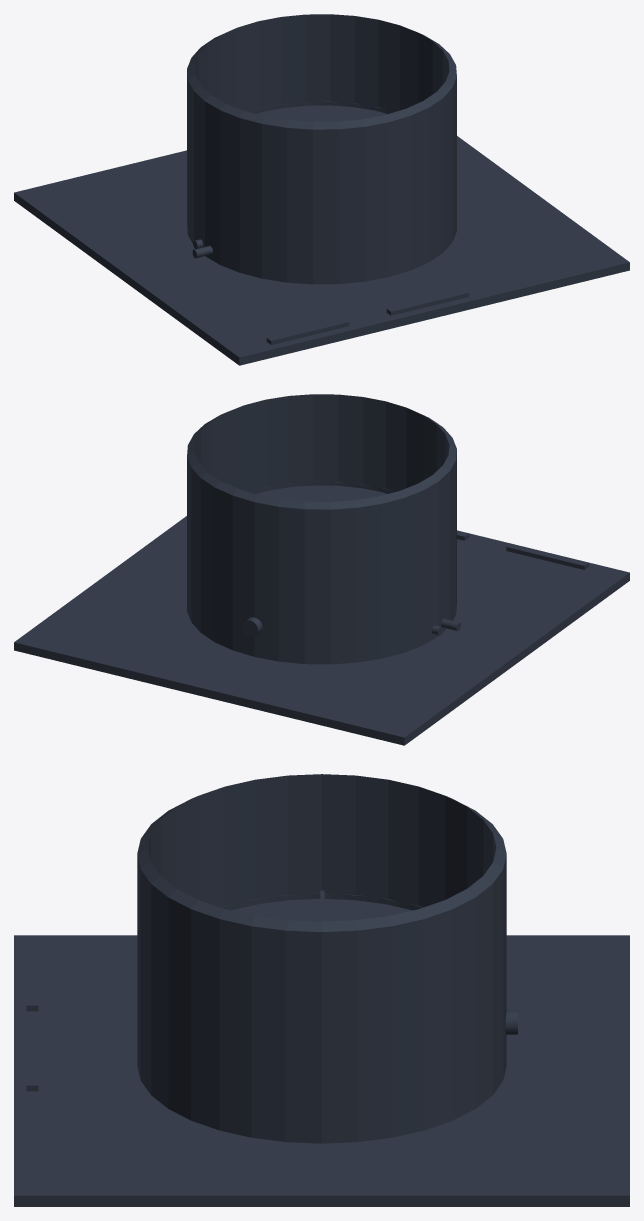
File: rez2.gltf
3 views of the same model, one above another, from view 1: azimuth 30°, elevation 25°; view 2: azimuth 150°, elevation 25°; view 3: azimuth 270°, elevation 25° (orthographic). The views are drawn at different scales.
Parts seen in each view (by area): view 1: Cylinder, Cube, Cube.001, Cube.002; view 2: Cylinder, Cube, Cube.002; view 3: Cylinder, Cube, Cube.001, Cube.002.
Boxes of the visible parts, x1,y1,x2,y2 form: Cylinder: [187, 14, 456, 284]; Cube: [14, 136, 629, 365]; Cube.001: [386, 289, 469, 315]; Cube.002: [266, 319, 349, 344]; Cylinder: [187, 394, 456, 664]; Cube: [14, 516, 629, 745]; Cube.002: [506, 543, 588, 569]; Cylinder: [137, 774, 506, 1143]; Cube: [14, 935, 629, 1206]; Cube.001: [26, 1033, 38, 1091]; Cube.002: [26, 953, 38, 1011].
Size of the model in its own units: 100 by 40.99 by 100.
